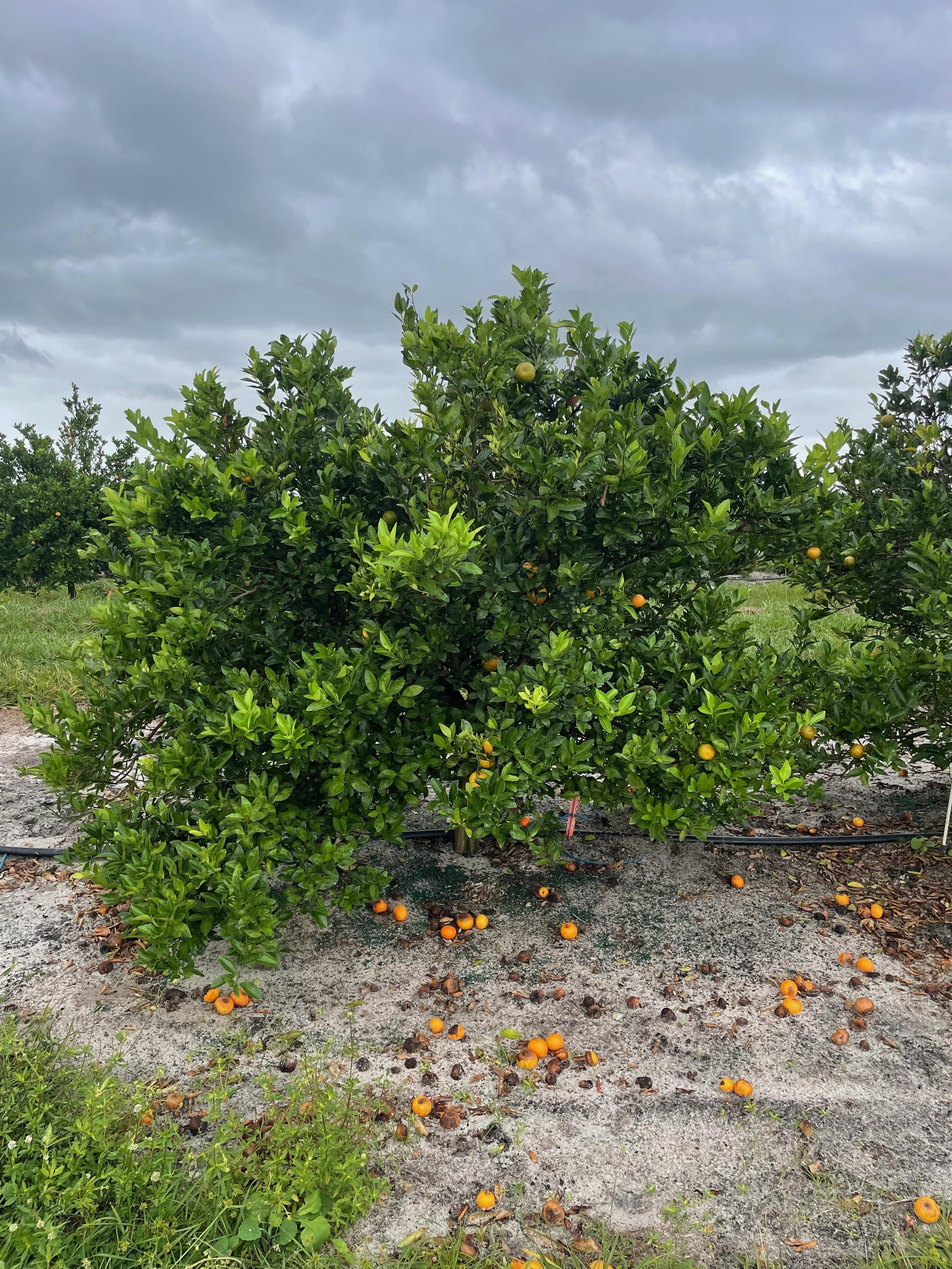fruit_on_ground: (512, 359, 538, 385), (465, 767, 491, 791), (525, 582, 549, 606), (695, 741, 717, 762), (519, 560, 541, 580), (477, 736, 497, 754), (476, 753, 496, 771), (380, 508, 400, 526), (481, 654, 501, 672), (798, 723, 818, 741), (848, 741, 866, 760), (628, 592, 646, 610), (583, 584, 602, 601), (878, 413, 897, 429), (843, 555, 857, 568), (54, 511, 61, 517), (45, 589, 51, 596), (30, 540, 36, 546)
fruit_on_tree: (913, 1194, 941, 1224), (540, 1199, 567, 1226), (411, 1094, 434, 1117), (439, 1109, 463, 1130), (516, 1050, 539, 1071), (185, 1116, 209, 1136), (214, 995, 235, 1017), (229, 989, 251, 1010), (793, 971, 814, 992), (527, 1035, 548, 1056), (476, 1189, 497, 1210), (298, 1098, 318, 1119), (443, 974, 464, 994), (163, 1090, 184, 1110), (203, 984, 224, 1004), (559, 919, 579, 940), (135, 1106, 155, 1126), (390, 901, 410, 921), (853, 995, 874, 1014), (830, 1026, 850, 1045), (783, 996, 803, 1015), (733, 1078, 753, 1097), (855, 955, 875, 974), (778, 978, 799, 996), (545, 1055, 564, 1074), (370, 896, 389, 915), (545, 1031, 565, 1049), (427, 1015, 445, 1034), (446, 1022, 465, 1040), (393, 1122, 410, 1141), (836, 951, 855, 968), (584, 1257, 610, 1269), (439, 923, 457, 940), (849, 1015, 868, 1031), (506, 1255, 527, 1269), (833, 890, 850, 907), (457, 912, 474, 929), (716, 1076, 734, 1092), (522, 1255, 544, 1268), (551, 1046, 570, 1061), (584, 1049, 600, 1066), (869, 902, 885, 919), (730, 872, 746, 889), (474, 913, 490, 929), (847, 974, 864, 989), (586, 1005, 603, 1019), (536, 884, 551, 899), (516, 950, 532, 964), (773, 1004, 789, 1018), (518, 813, 532, 828), (551, 986, 567, 999), (626, 995, 641, 1008), (850, 815, 865, 828), (564, 860, 578, 873), (742, 825, 756, 837), (508, 969, 520, 981), (796, 822, 809, 833), (897, 767, 909, 777), (808, 825, 819, 834)
